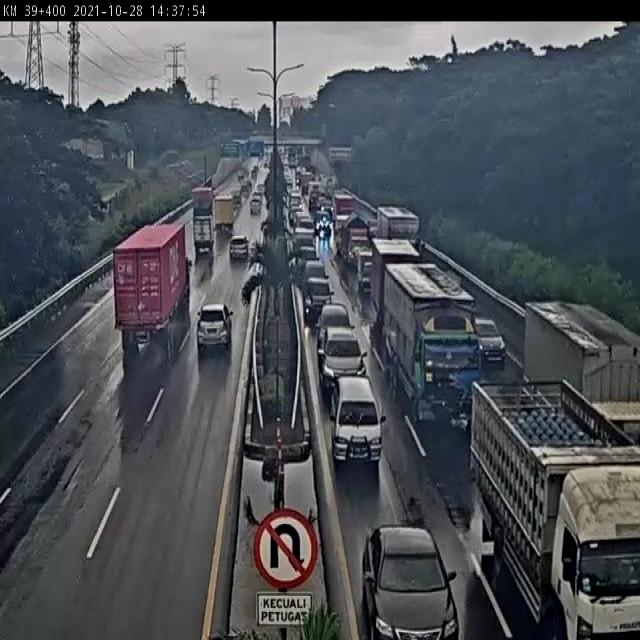Car: (360, 522, 459, 640), (317, 326, 370, 396), (195, 301, 234, 355), (474, 317, 509, 369), (301, 276, 337, 322), (228, 234, 250, 262)
Truck: (465, 374, 640, 640), (368, 234, 485, 428), (521, 291, 640, 442), (114, 222, 191, 357), (334, 210, 370, 270), (192, 215, 215, 254), (192, 185, 216, 218), (214, 196, 235, 232), (334, 194, 353, 216)
Van: (328, 375, 387, 469)
